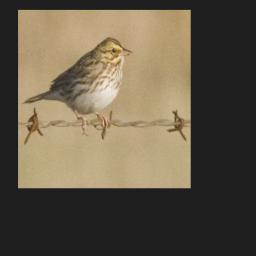Sparrow: (22, 33, 134, 135)
